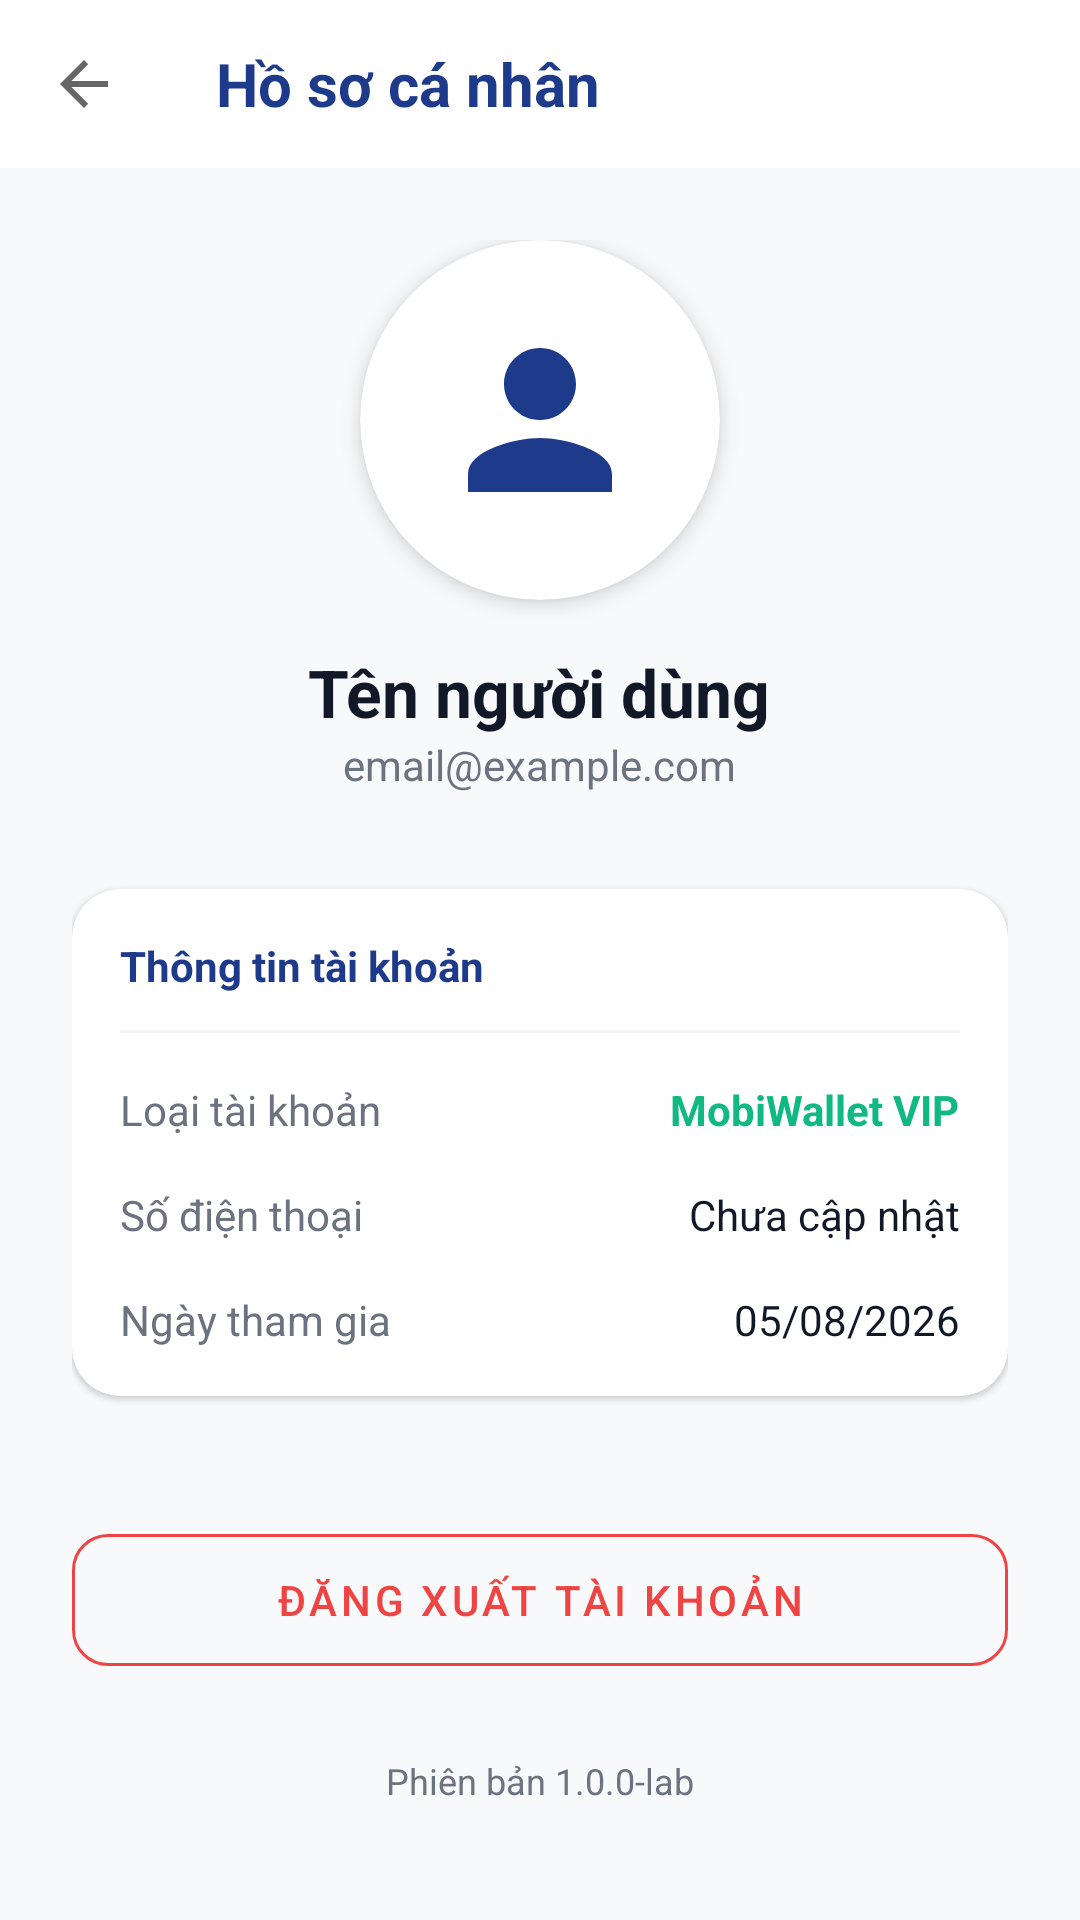

Named icons in this screenshot (1080*1920) and their centers, point (x, y):
profile nav: point (540, 474)
